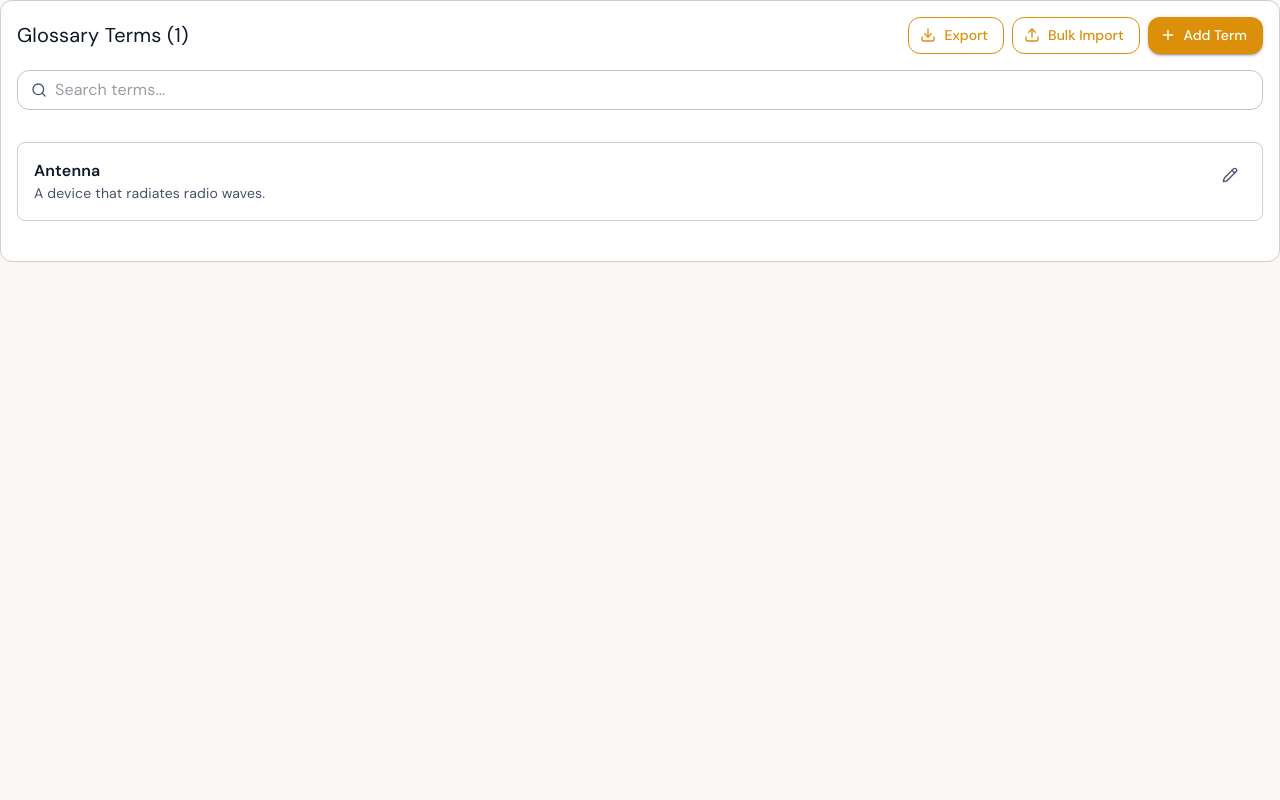
Test case: AdminGlossary › add dialog › labels both fields
Expected: the heading "Antenna" is shown, x1=34 y1=160 x2=100 y2=180
Click the button "Add Term". click: click(1205, 35)
box: x1=1148 y1=17 x2=1263 y2=54
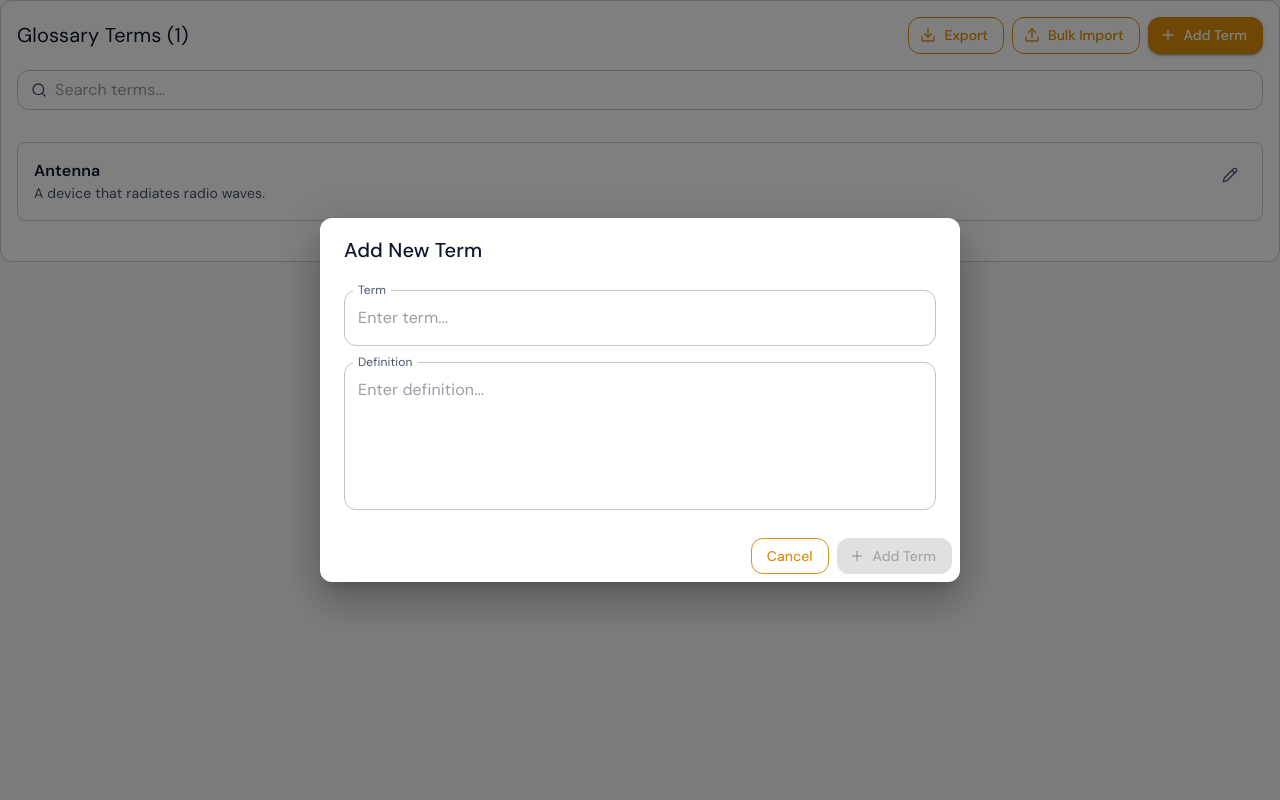
Expected: the field labelled "Term" is shown, x1=344 y1=290 x2=936 y2=346
Expected: the text box labelled "Definition" is shown, x1=358 y1=378 x2=922 y2=493
